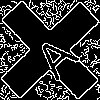A: (25, 25, 82, 82)
